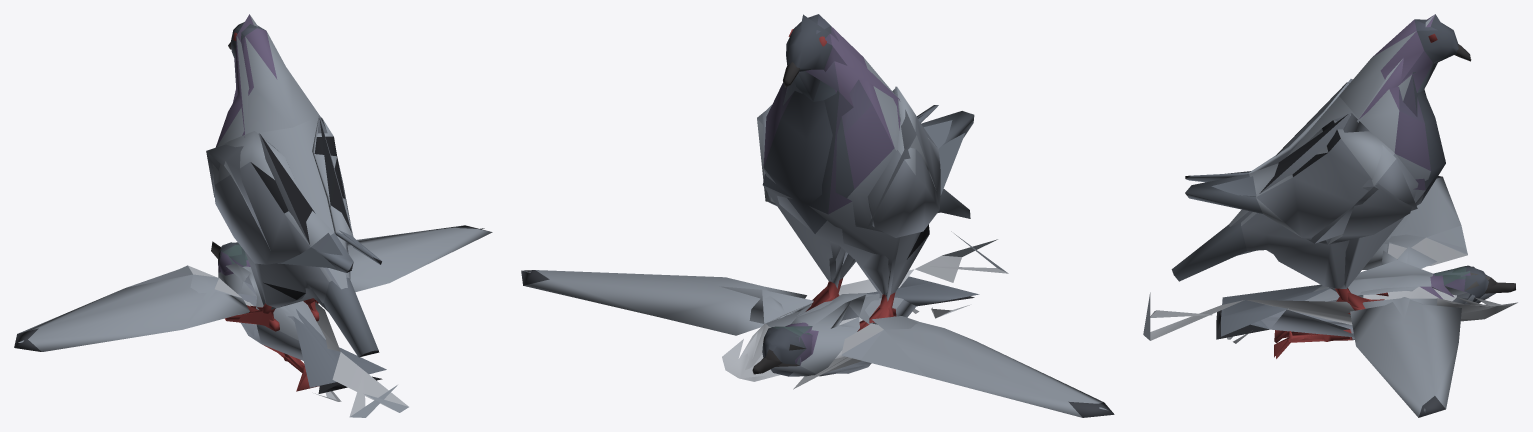
The model's file is pigeon.glb.
3 views of the same model, side by side, from view 1: azimuth 30°, elevation 25°; view 2: azimuth 150°, elevation 25°; view 3: azimuth 270°, elevation 25° (orthographic). The views are drawn at different scales.
Parts seen in each view (by area): view 1: stand, stand_low, fly_wing_l, fly_wing_r, fly_low, fly; view 2: stand, fly_wing_r, stand_low, fly_wing_l, fly_low, fly; view 3: stand, fly_wing_r, stand_low, fly_low, fly, fly_wing_l.
Part boxes in pixels (box(x1,y1,x2,y2)): stand: box(212, 22, 381, 357); stand_low: box(206, 14, 363, 326); fly_wing_l: box(14, 269, 397, 417); fly_wing_r: box(248, 225, 492, 412); fly_low: box(18, 228, 484, 412); fly: box(211, 241, 386, 393); stand: box(762, 14, 974, 331); fly_wing_r: box(521, 239, 997, 381); stand_low: box(757, 14, 965, 329); fly_wing_l: box(811, 231, 1114, 417); fly_low: box(522, 235, 1107, 410); fly: box(752, 276, 974, 376); stand: box(1171, 19, 1470, 310); fly_wing_r: box(1143, 294, 1517, 417); stand_low: box(1211, 14, 1471, 314); fly_low: box(1147, 234, 1515, 412); fly: box(1216, 246, 1515, 355); fly_wing_l: box(1150, 176, 1467, 343).
Bounding box in the file's own units: 0.6195 × 0.3903 × 0.4007.
